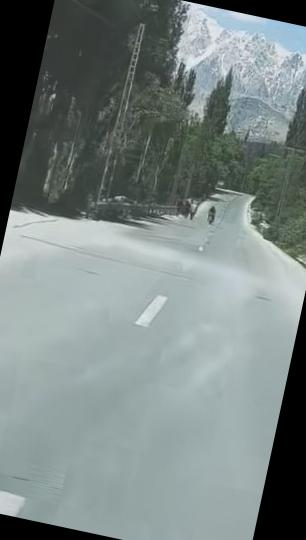sharp_turn: (0, 139, 306, 540)
